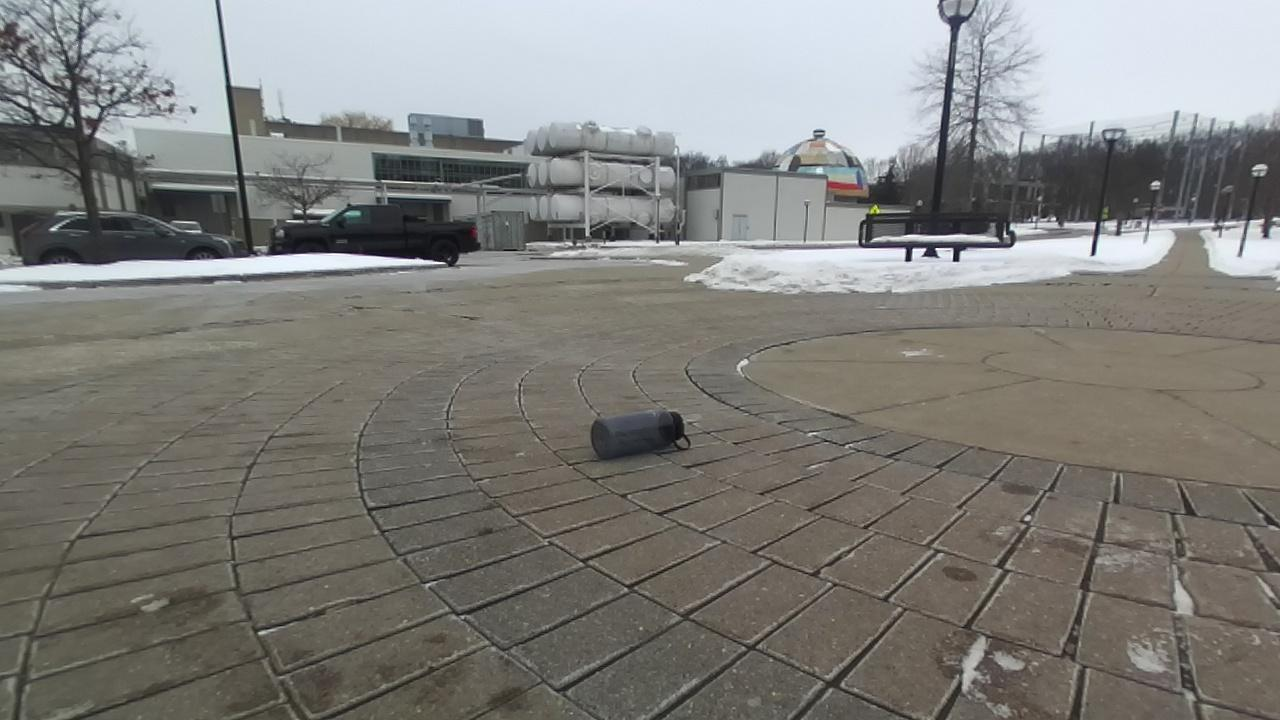bottle: (591, 409, 687, 460)
